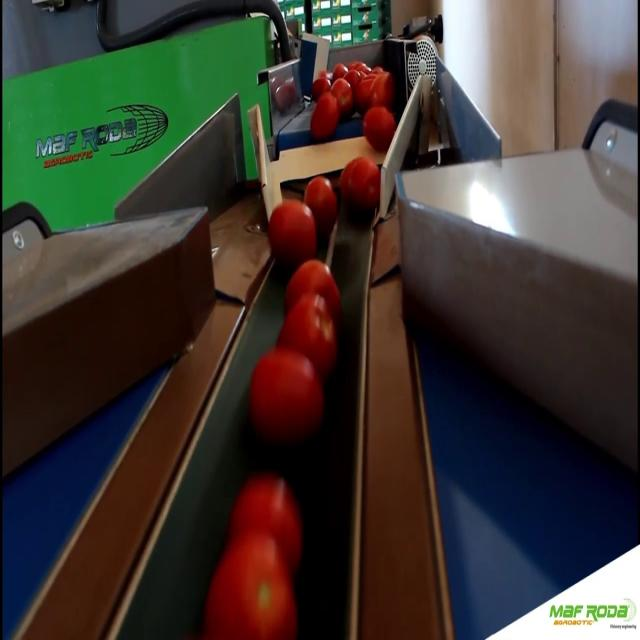Tomato: (202, 544, 300, 640), (251, 349, 320, 443), (230, 476, 302, 552), (278, 294, 338, 376), (286, 253, 337, 302), (337, 157, 383, 210), (267, 205, 316, 253), (304, 176, 338, 224), (361, 106, 397, 145), (308, 94, 338, 137), (329, 78, 357, 110), (370, 72, 394, 104), (311, 72, 333, 97), (359, 78, 372, 108), (332, 61, 351, 78)
